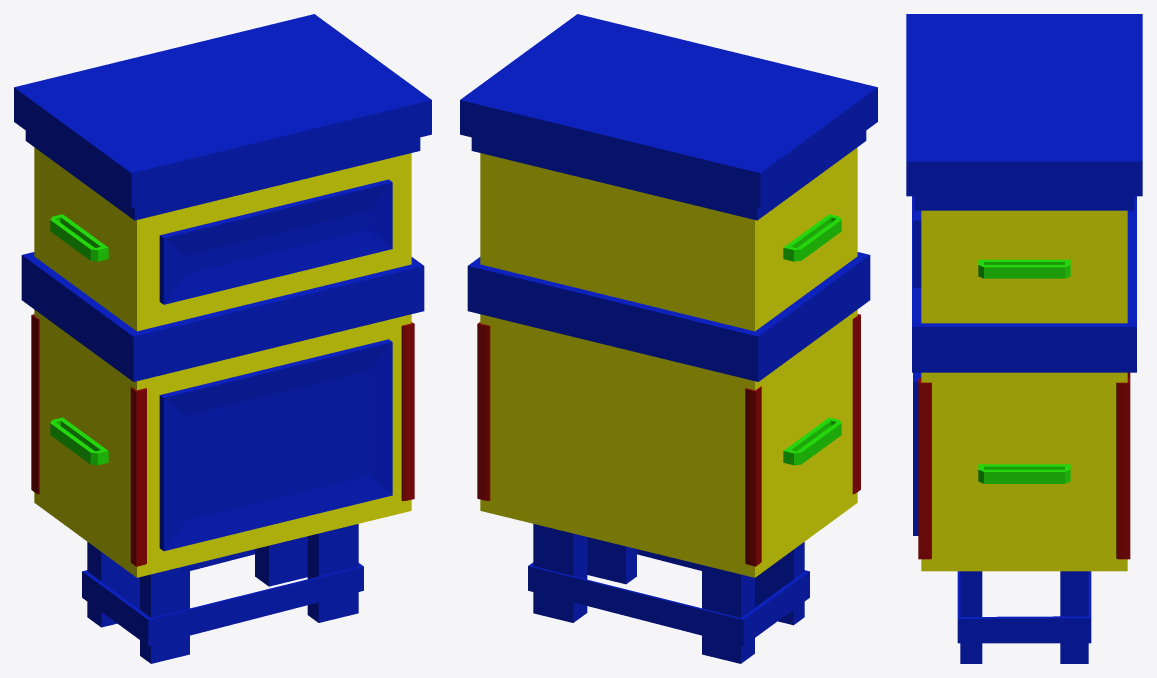
Rendered from Hive.fbx.
The picture shows the model from 3 angles, left to right: view 1: azimuth 30°, elevation 25°; view 2: azimuth 150°, elevation 25°; view 3: azimuth 270°, elevation 25°; orthographic projection.
Visible parts, largest first — view 1: Hive; view 2: Hive; view 3: Hive.
Part boxes in pixels (x1,y1,x2,y2): Hive: [14, 14, 431, 663]; Hive: [460, 14, 877, 663]; Hive: [906, 14, 1142, 663].
Size of the model in its own units: 100 by 164 by 66.77.
